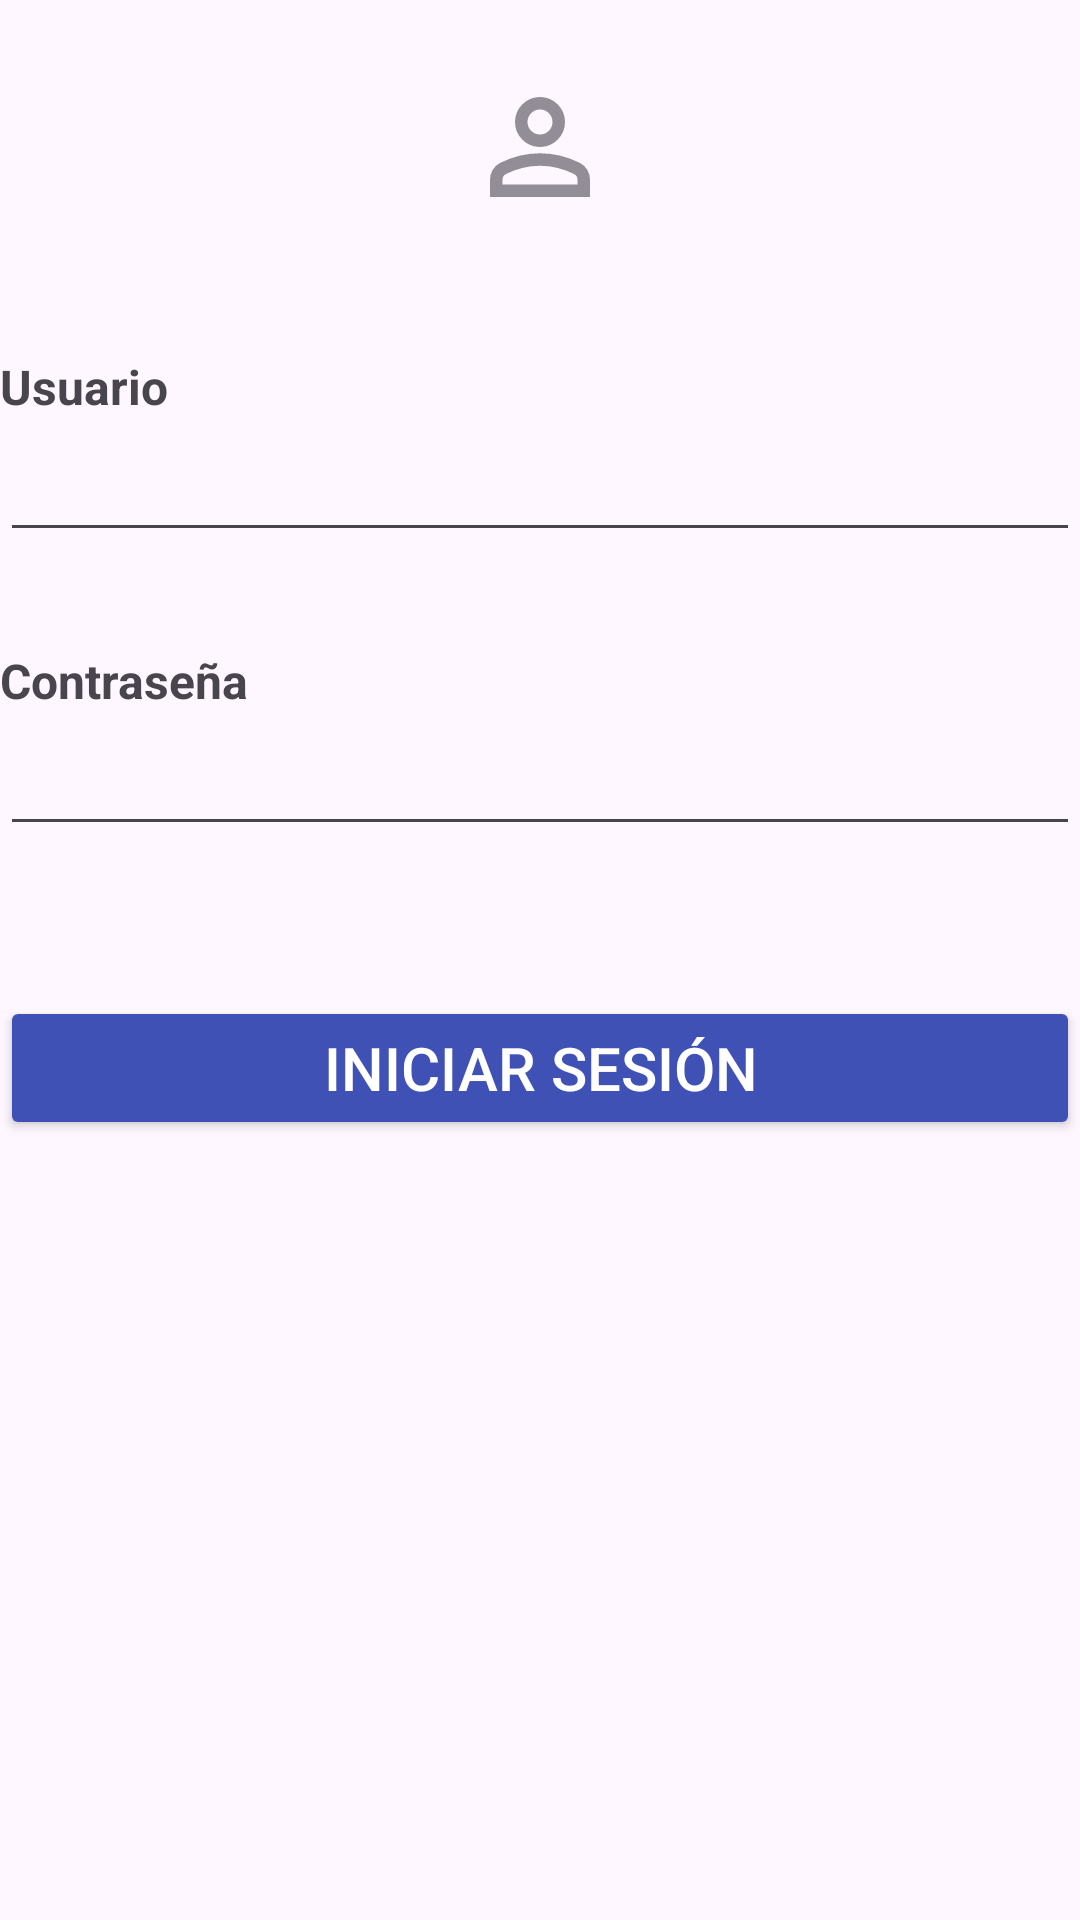

Locate icon controls on the screen. Image size 1080px x 1920px, boxes as (x1, y1, x2, y2).
user: (490, 97, 590, 197)
